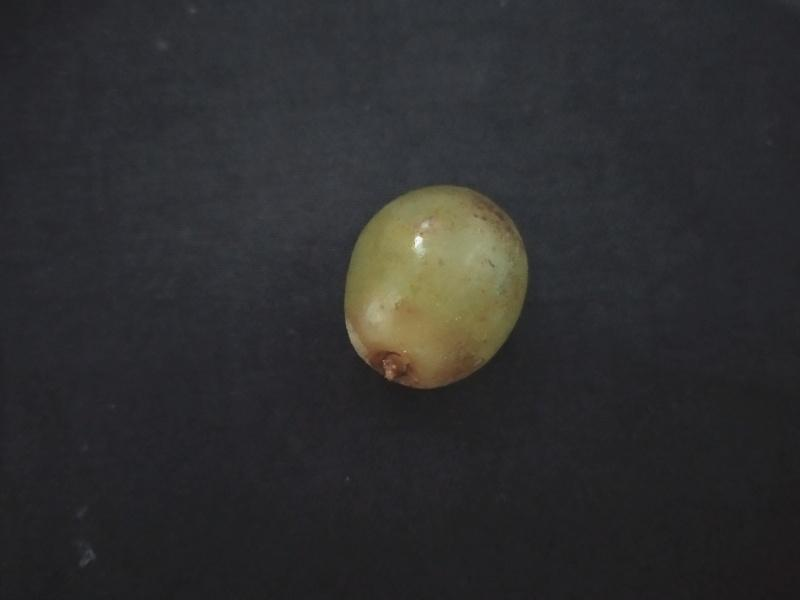Grape Rotten: (343, 182, 531, 391)
